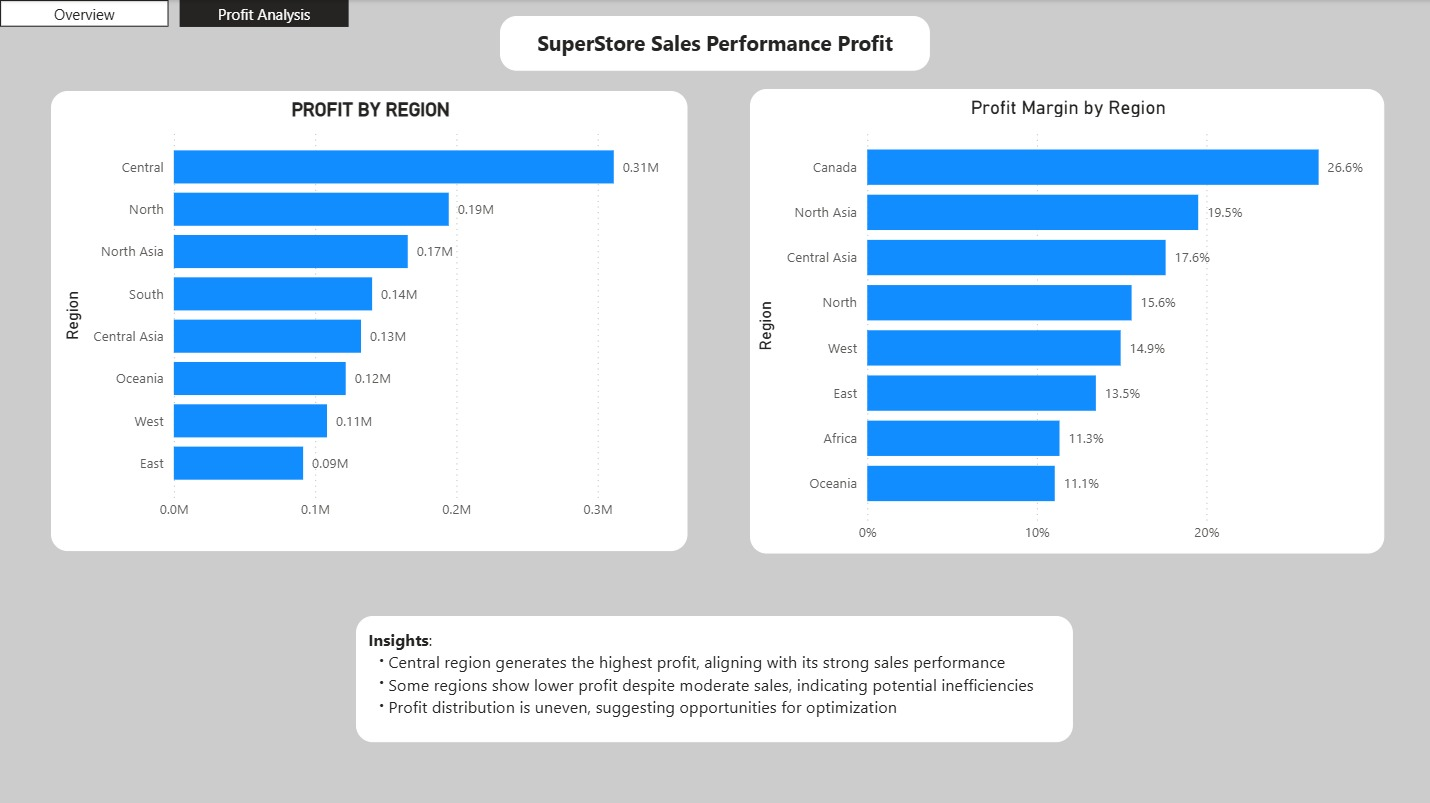

The dashboard page shown, as its layout file describes it:
{"tool":"powerbi","page":{"name":"Profit Analysis","canvas":[1280,720],"ordinal":1},"visuals":[{"type":"barChart","title":"PROFIT BY REGION","fields":{"Category":["SuperStoreOrders - SuperStoreOrders.region"],"Y":["Sum(SuperStoreOrders - SuperStoreOrders.profit)"]},"box":[45.7,81.5,570.4,411.9],"z":0},{"type":"textbox","box":[447.8,14.3,385.1,49.3],"z":1000},{"type":"pageNavigator","box":[0,0,313.4,24.2],"z":2000},{"type":"textbox","box":[318.8,551.6,642.1,112.8],"z":3000},{"type":"barChart","title":"Profit Margin by Region","fields":{"Category":["SuperStoreOrders - SuperStoreOrders.region"],"Y":["SuperStoreOrders - SuperStoreOrders.Profit Margin %"]},"box":[672,80,568,416],"z":4000}]}

Visuals, with their boxes in screenshot pixels (x1, y1, x2, y2), scaled from the page's 1280x720 canvas onto the 1430x803 screenshot:
"PROFIT BY REGION" barChart: {"left": 51, "top": 91, "right": 688, "bottom": 550}
textbox: {"left": 500, "top": 16, "right": 931, "bottom": 71}
pageNavigator: {"left": 0, "top": 0, "right": 350, "bottom": 27}
textbox: {"left": 356, "top": 615, "right": 1074, "bottom": 741}
"Profit Margin by Region" barChart: {"left": 751, "top": 89, "right": 1385, "bottom": 553}
